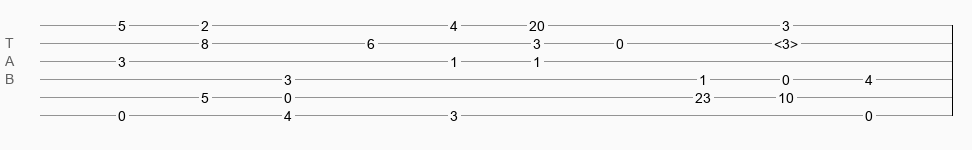0: (118, 108, 126, 118), (284, 90, 292, 100), (616, 36, 624, 46), (782, 72, 790, 82), (865, 108, 873, 118)
1: (450, 54, 458, 64), (533, 54, 541, 64), (699, 72, 707, 82)
10: (778, 90, 794, 100)
2: (201, 18, 209, 28)
20: (529, 18, 545, 28)
23: (695, 90, 711, 100)
3: (118, 54, 126, 64), (284, 72, 292, 82), (450, 108, 458, 118), (533, 36, 541, 46), (782, 18, 790, 28)
4: (284, 108, 292, 118), (450, 18, 458, 28), (865, 72, 873, 82)
5: (118, 18, 126, 28), (201, 90, 209, 100)
6: (367, 36, 375, 46)
8: (201, 36, 209, 46)
harmonic: (774, 36, 798, 46)
